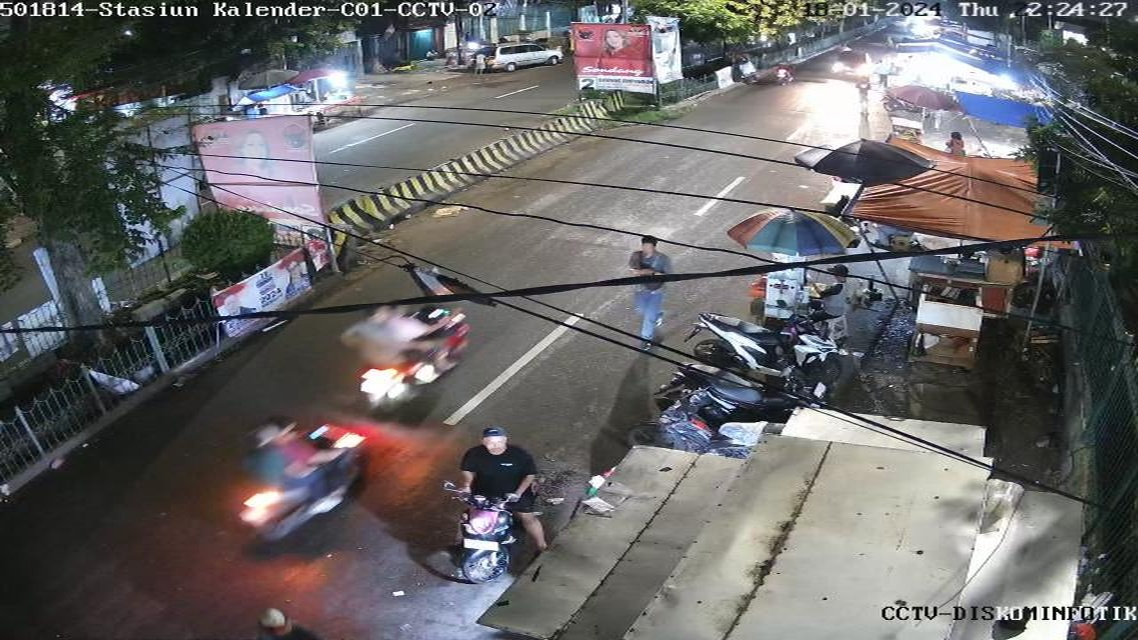Gerobak: (900, 242, 1022, 320), (749, 252, 811, 327)
